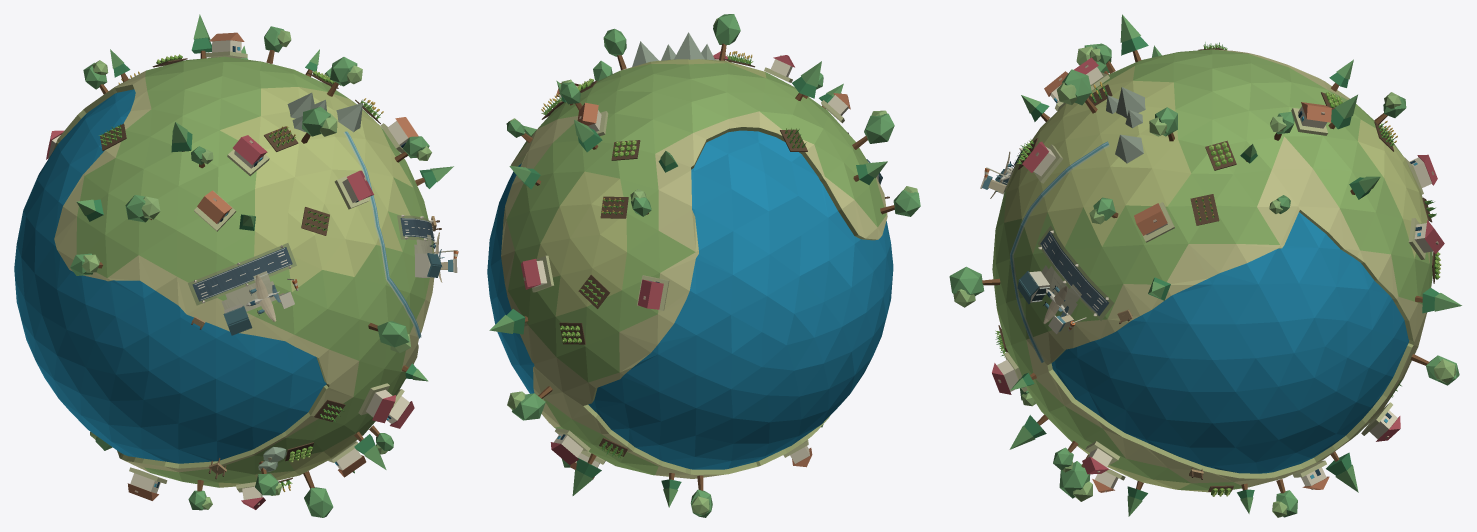
The model's file is earth-mobile.glb.
3 renders of one model, left to right at view 1: azimuth 30°, elevation 25°; view 2: azimuth 150°, elevation 25°; view 3: azimuth 270°, elevation 25°, orthographic. The views are drawn at different scales.
Parts seen in each view (by area): view 1: Terrain • modeled surfaces, Structures • modeled surfaces, Activity_regional-plane_stops • modeled surfaces; view 2: Terrain • modeled surfaces, Structures • modeled surfaces; view 3: Terrain • modeled surfaces, Structures • modeled surfaces, Activity_regional-plane_stops • modeled surfaces.
Boxes of the visible parts, box(x1,y1,x2,y2) form: Terrain • modeled surfaces: box(14, 56, 434, 487); Structures • modeled surfaces: box(46, 14, 453, 517); Activity_regional-plane_stops • modeled surfaces: box(188, 214, 458, 335); Terrain • modeled surfaces: box(487, 59, 893, 478); Structures • modeled surfaces: box(489, 14, 920, 517); Terrain • modeled surfaces: box(992, 49, 1432, 492); Structures • modeled surfaces: box(949, 14, 1461, 517); Activity_regional-plane_stops • modeled surfaces: box(980, 140, 1114, 334).
Size of the model in its own units: 2.17 by 2.16 by 2.36.
